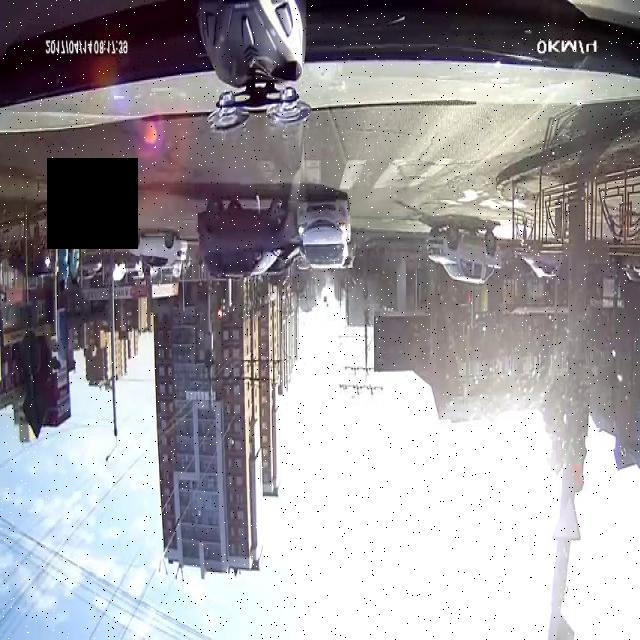moderate: (189, 182, 356, 294)
